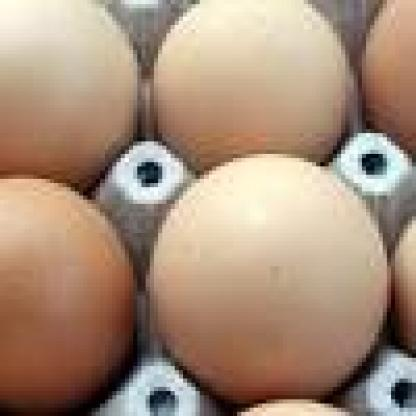egg: (143, 149, 395, 405), (152, 0, 354, 179), (0, 175, 140, 414), (1, 1, 142, 193), (362, 1, 416, 163), (392, 214, 416, 364), (236, 397, 349, 416)
